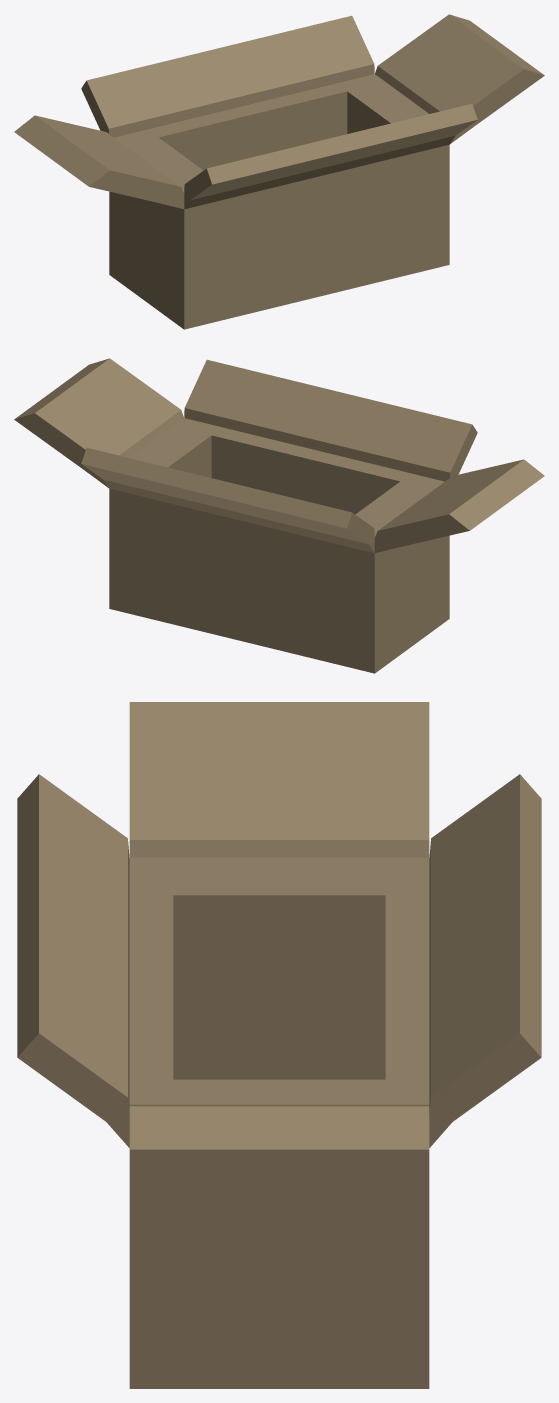
File: Pappeske stor brett opp.fbx
3 views of the same model, one above another, from view 1: azimuth 30°, elevation 25°; view 2: azimuth 150°, elevation 25°; view 3: azimuth 270°, elevation 25° (orthographic). The views are drawn at different scales.
Parts seen in each view (by area): view 1: pCube4; view 2: pCube4; view 3: pCube4.
Part boxes in pixels (left/top/right/bottom): pCube4: left=14, top=14, right=544, bottom=329; pCube4: left=14, top=358, right=544, bottom=673; pCube4: left=17, top=702, right=541, bottom=1388.
Size of the model in its own units: 333 by 124 by 166.
